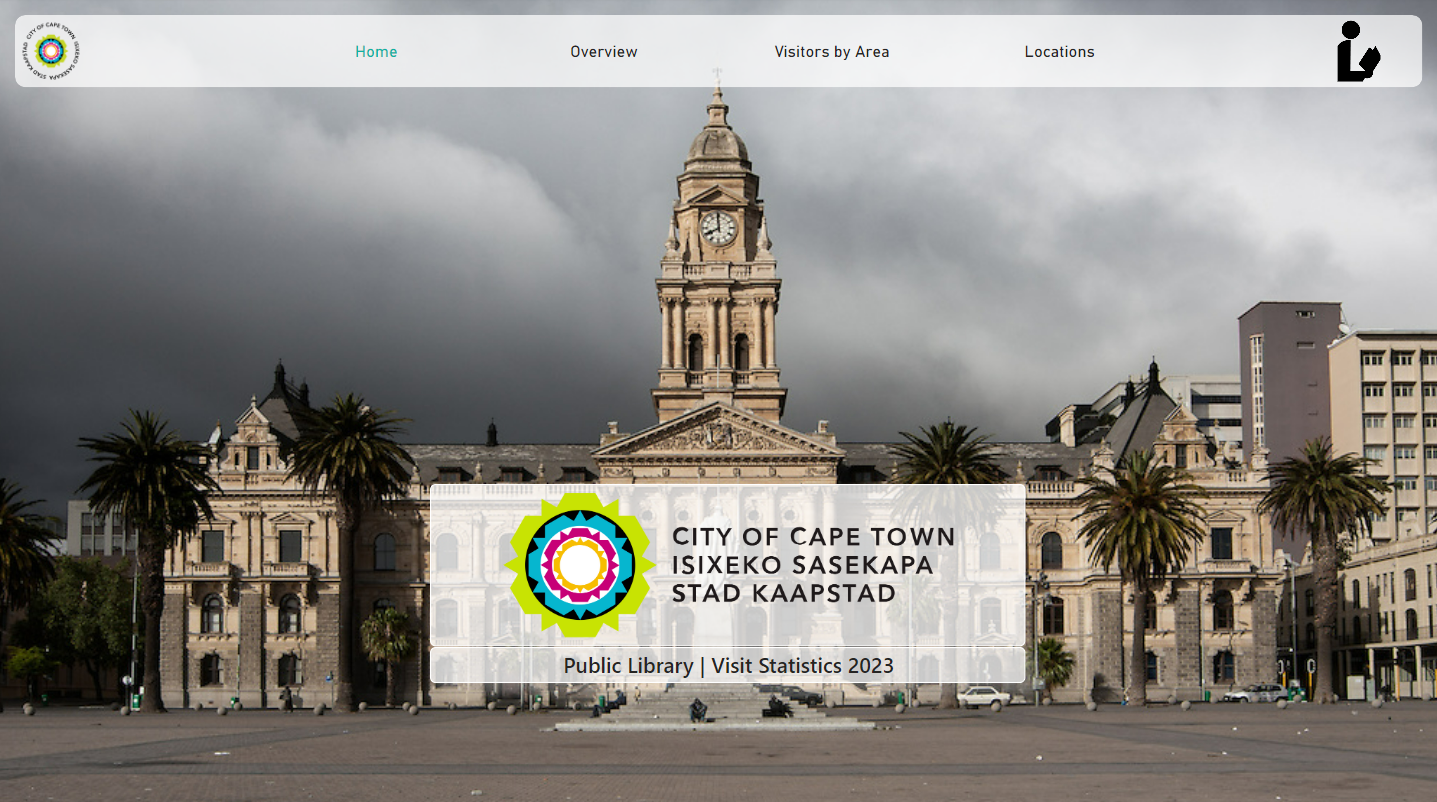

Layout of this report page (visuals, bound fields, positions):
{"tool":"powerbi","page":{"name":"Home","canvas":[1280,720],"ordinal":0},"visuals":[{"type":"shape","box":[16,16,1248,64],"z":0,"group":"g1"},{"type":"image","box":[384,432,528,144],"z":0},{"type":"image","box":[16,16,64,64],"z":1000,"group":"g1"},{"type":"textbox","title":"   Public Library | Visit Statistics 2023 ","box":[384,576,528,32],"z":1000},{"type":"image","box":[1184,16,48,64],"z":2000,"group":"g1"},{"type":"group","id":"g1","title":"Group 1","box":[16,16,1248,64],"z":2000},{"type":"pageNavigator","box":[240,32,800,32],"z":4001,"group":"g1"}]}

Visuals, with their boxes in screenshot pixels (x1, y1, x2, y2), scaled from the page's 1280x720 canvas onto the 1437x802 screenshot:
shape: <region>18, 18, 1419, 89</region>
image: <region>431, 481, 1024, 642</region>
image: <region>18, 18, 90, 89</region>
"   Public Library | Visit Statistics 2023 " textbox: <region>431, 642, 1024, 677</region>
image: <region>1329, 18, 1383, 89</region>
"Group 1" group: <region>18, 18, 1419, 89</region>
pageNavigator: <region>269, 36, 1168, 71</region>
